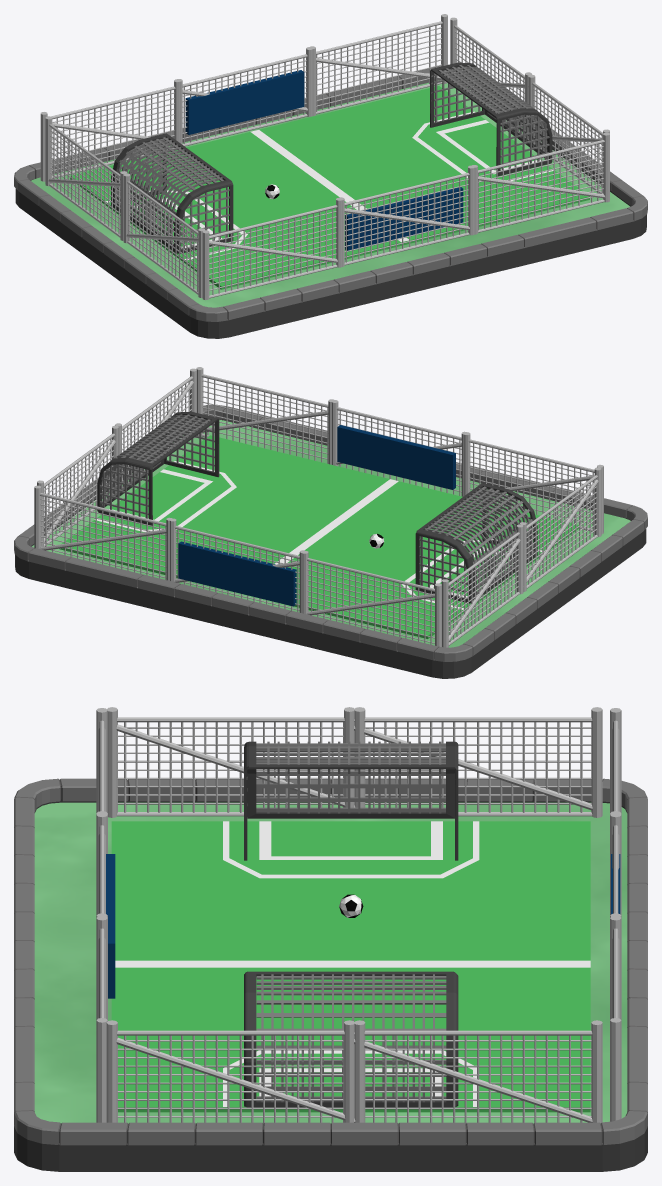
Rendered from footballarea_lv4.fbx.
3 renders of one model, top to bottom at view 1: azimuth 30°, elevation 25°; view 2: azimuth 150°, elevation 25°; view 3: azimuth 270°, elevation 25°, orthographic. The views are drawn at different scales.
Parts seen in each view (by area): view 1: footballarea_lv4; view 2: footballarea_lv4; view 3: footballarea_lv4.
Part boxes in pixels (left/top/right/bottom): footballarea_lv4: left=14, top=14, right=647, bottom=338; footballarea_lv4: left=14, top=367, right=647, bottom=678; footballarea_lv4: left=14, top=707, right=647, bottom=1171.
Bounding box in the file's own units: 3306 × 592 × 2513.
